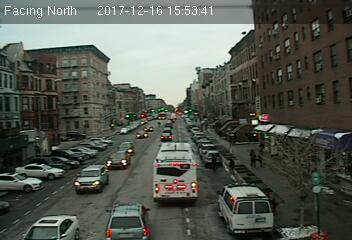bus: (152, 142, 200, 204)
car: (104, 203, 151, 240), (75, 165, 110, 192), (202, 149, 223, 167), (106, 151, 129, 167), (135, 130, 149, 138), (160, 132, 172, 141)
police: (215, 180, 276, 233)
